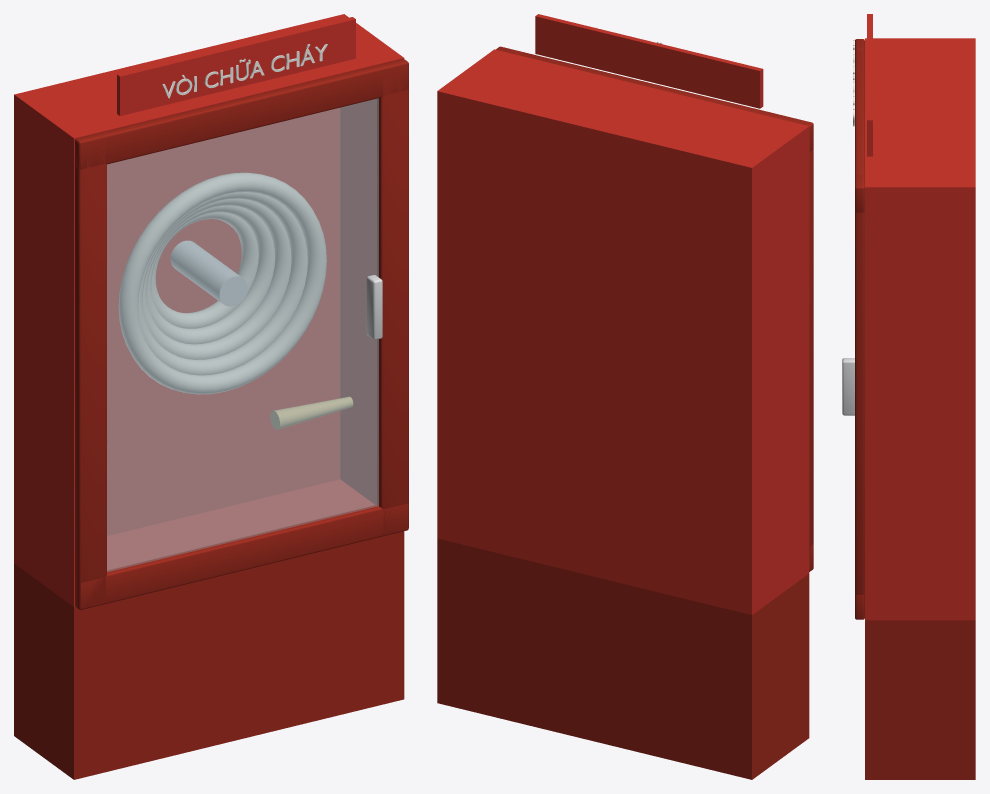
Rendered from HoseCabinet.fbx.
3 views of the same model, side by side, from view 1: azimuth 30°, elevation 25°; view 2: azimuth 150°, elevation 25°; view 3: azimuth 270°, elevation 25° (orthographic). The views are drawn at different scales.
Visible parts, largest first — view 1: HoseCabinet; view 2: HoseCabinet; view 3: HoseCabinet.
Part boxes in pixels (bbox=[...]): HoseCabinet: bbox=[14, 14, 408, 779]; HoseCabinet: bbox=[437, 14, 813, 779]; HoseCabinet: bbox=[842, 14, 975, 779].
Size of the model in its own units: 0.7 by 1.4 by 0.265.
